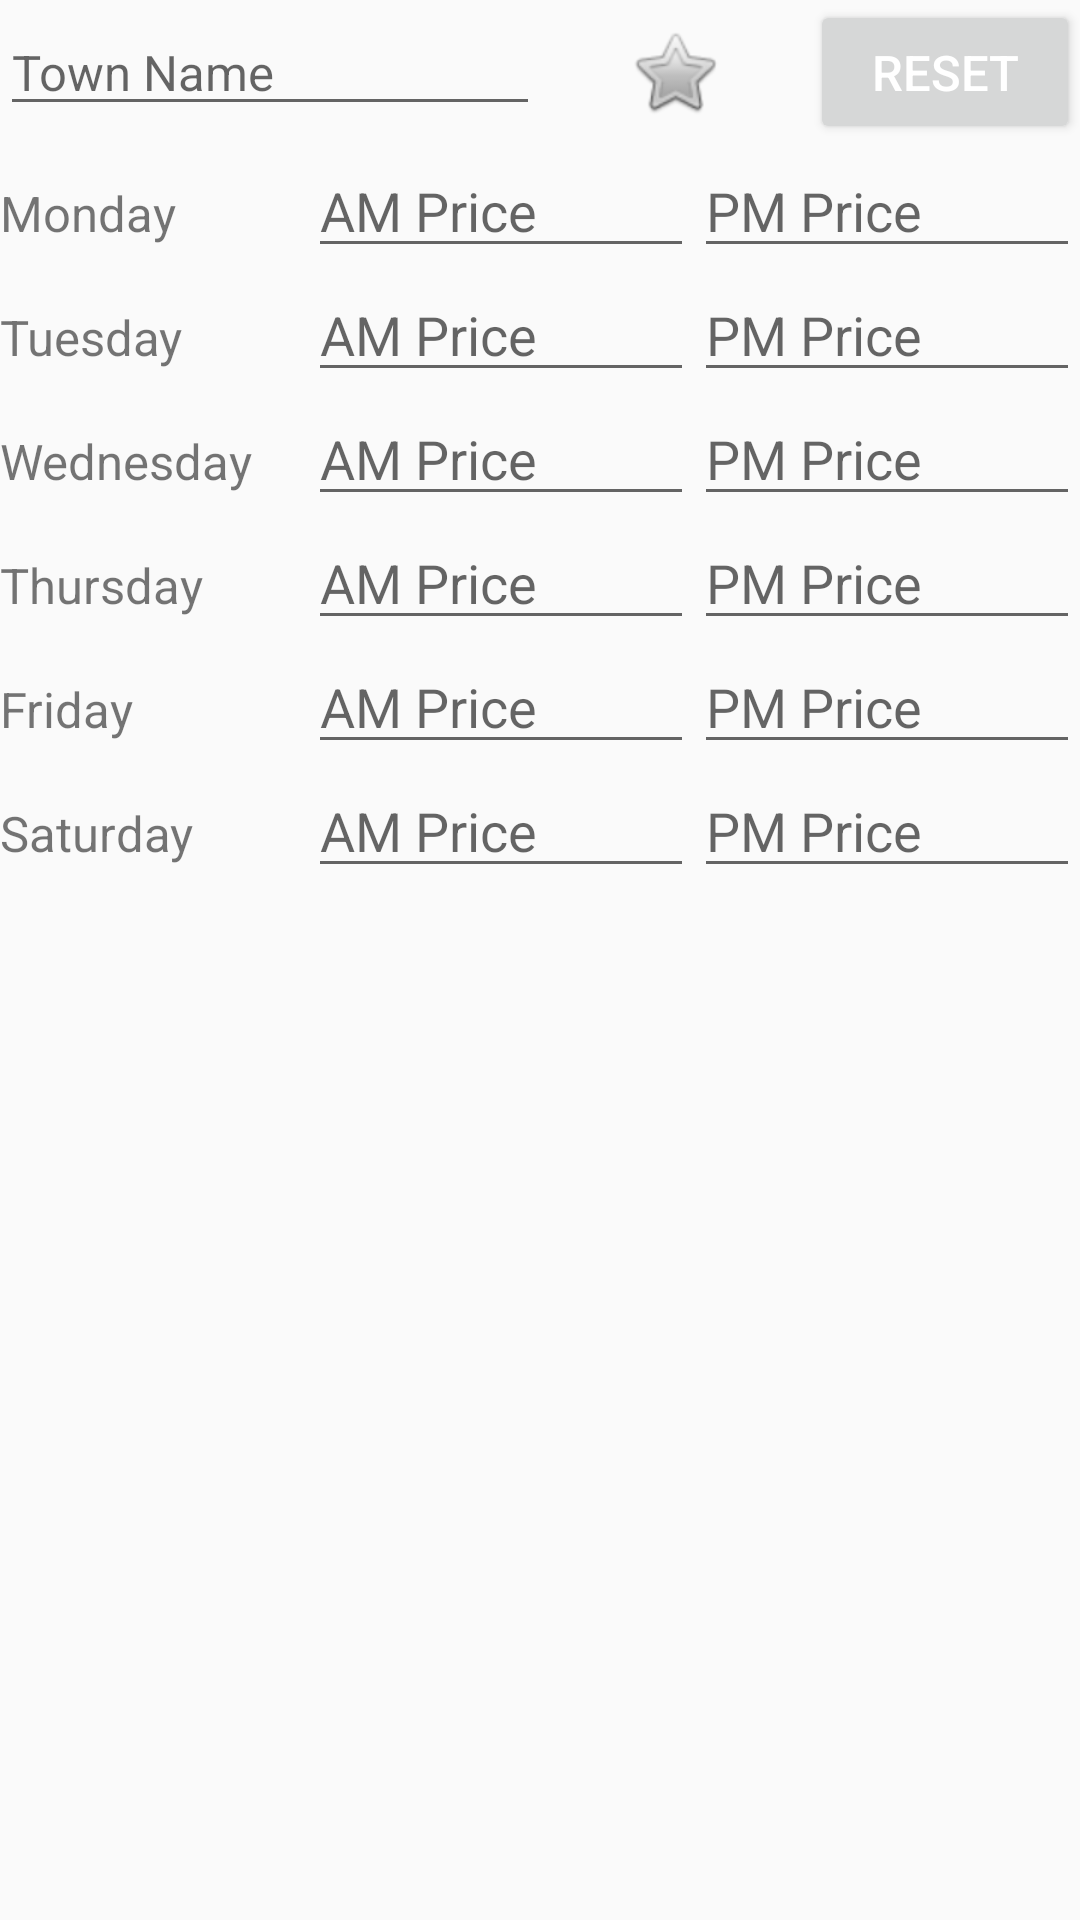

Icons on this 1080 × 1920 Android screen, each with its box as box=[x1, y1, x2, y2]:
star: box=[636, 34, 716, 112]
